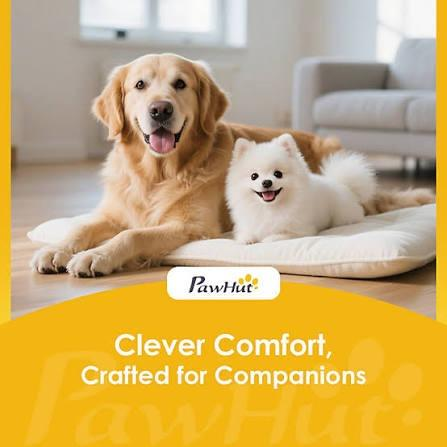adult_dog: (29, 51, 347, 278), (225, 132, 380, 244)
